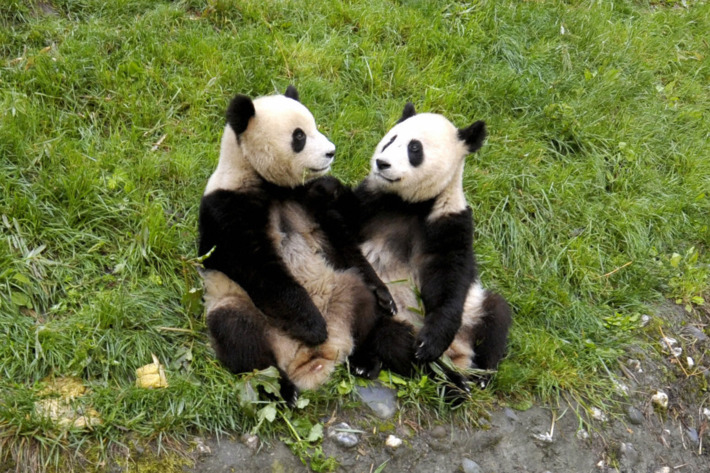panda: (167, 64, 374, 411), (356, 92, 569, 424)
